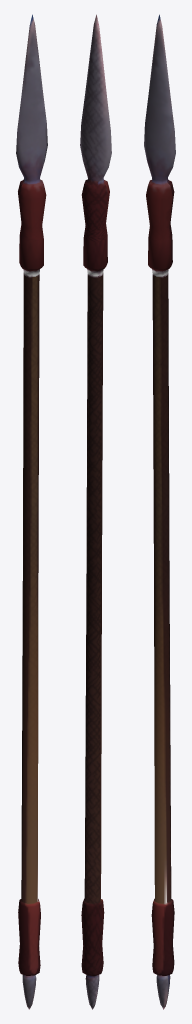
The model's file is spear.fbx.
3 renders of one model, left to right at view 1: azimuth 30°, elevation 25°; view 2: azimuth 150°, elevation 25°; view 3: azimuth 330°, elevation 25°, orthographic.
Parts seen in each view (by area): view 1: spear; view 2: spear; view 3: spear.
Part boxes in pixels (bbox=[...]): spear: bbox=[16, 14, 47, 1009]; spear: bbox=[80, 14, 111, 1009]; spear: bbox=[144, 14, 175, 1009].
Size of the model in its own units: 70.04 by 2093 by 59.63.
